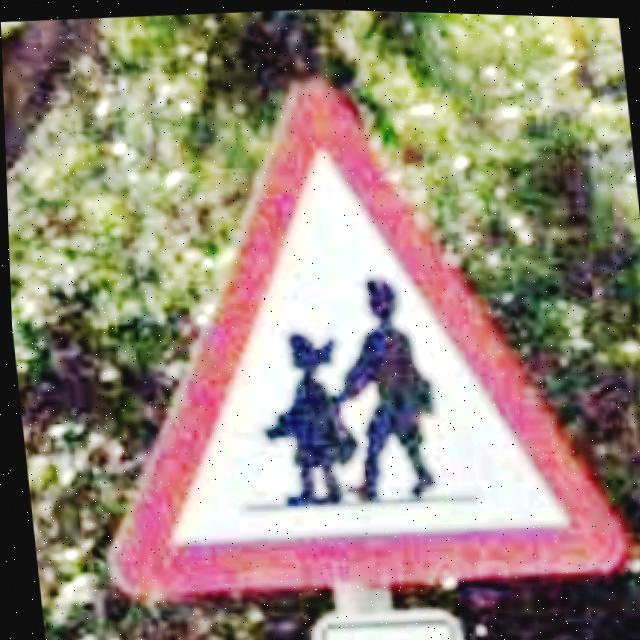childrencross: (114, 76, 620, 587)
